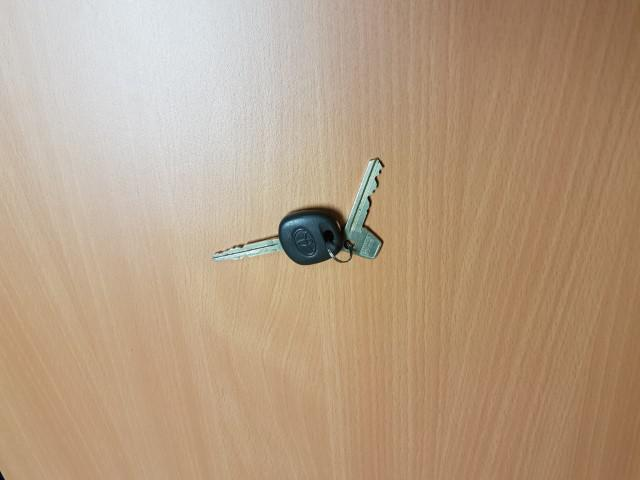key: (214, 209, 343, 265)
